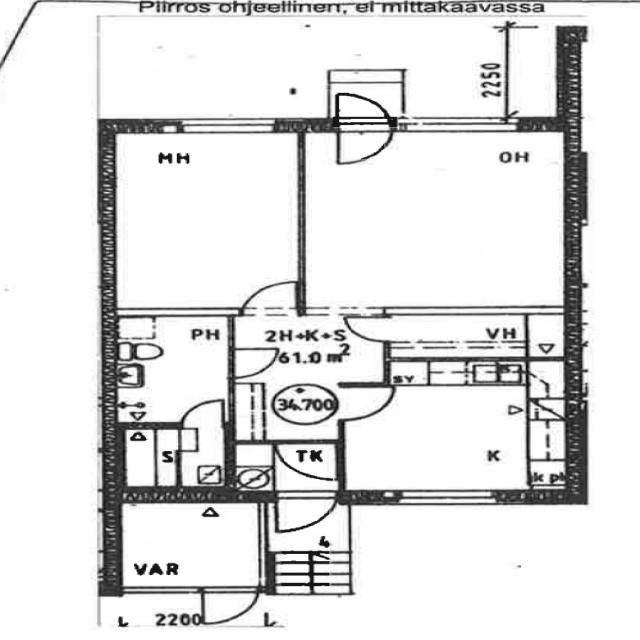door: (328, 89, 399, 168), (266, 487, 338, 538), (194, 586, 263, 627), (235, 278, 303, 319), (274, 443, 340, 484), (335, 384, 399, 422), (223, 345, 284, 381), (339, 313, 398, 345), (174, 397, 230, 430)
window: (397, 110, 519, 138), (383, 486, 504, 511), (169, 113, 285, 138)
zone: (296, 116, 577, 319), (104, 130, 304, 312), (338, 374, 572, 499), (226, 310, 351, 443), (105, 494, 266, 588), (103, 312, 234, 424), (103, 423, 226, 494), (382, 310, 538, 364), (275, 442, 340, 482), (465, 357, 529, 385)
